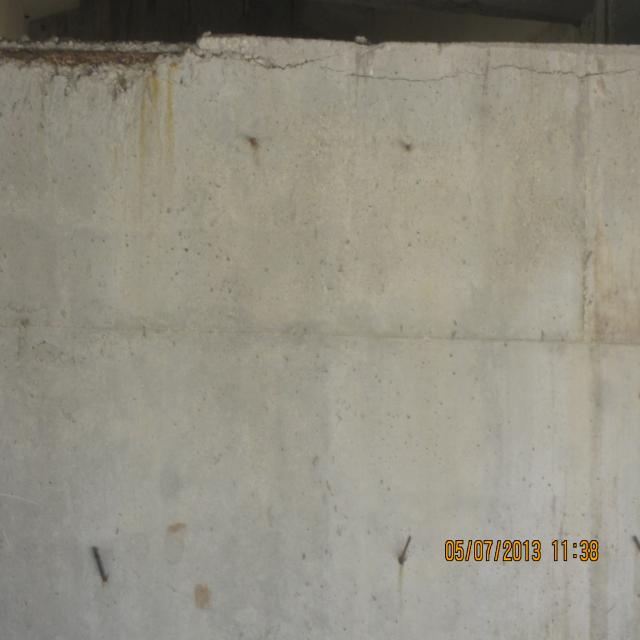corrosion: (0, 43, 196, 207), (389, 530, 419, 609), (90, 532, 120, 594), (249, 133, 264, 162)
